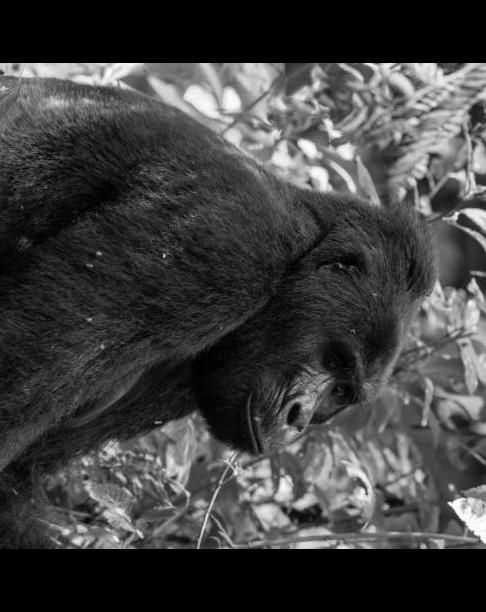goriile_montagne: (0, 113, 464, 549)
